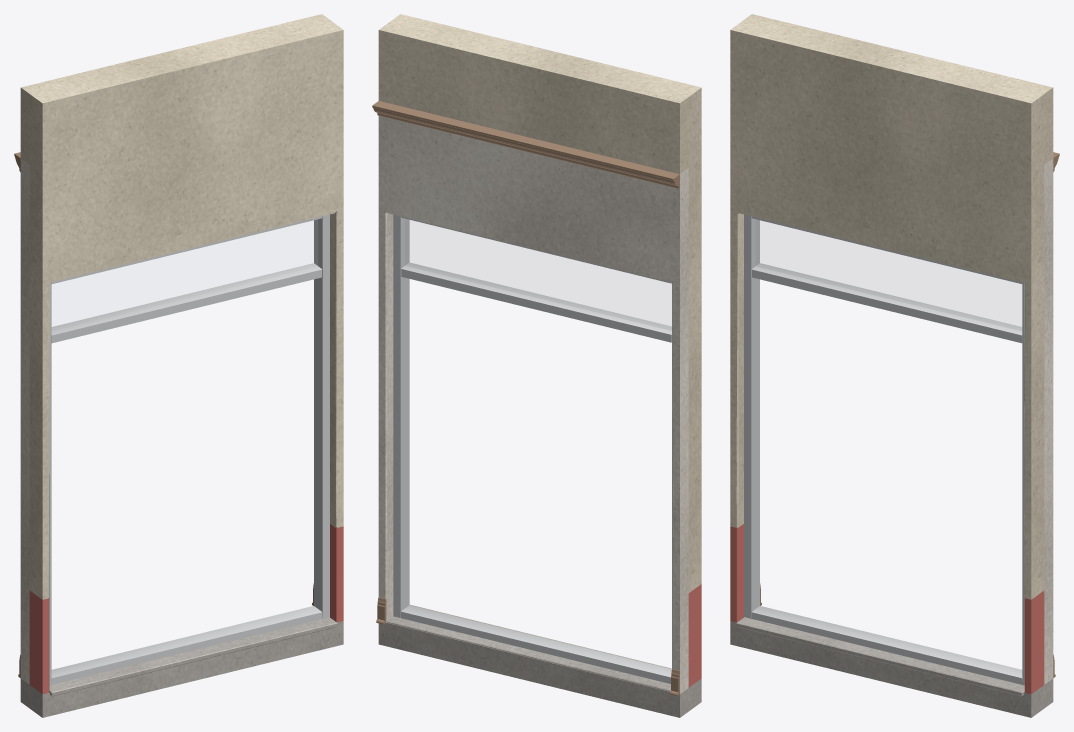
The model's file is w_door2.glb.
3 views of the same model, side by side, from view 1: azimuth 30°, elevation 25°; view 2: azimuth 150°, elevation 25°; view 3: azimuth 330°, elevation 25° (orthographic).
Visible parts, largest first — view 1: w_door2_render, w_door2_frame, w_door2_glass, w_door2_concrete, w_door2_plaster, w_door2_tile_r; view 2: w_door2_plaster, w_door2_render, w_door2_frame, w_door2_glass, w_door2_concrete, molduras, w_door2_tile_r; view 3: w_door2_render, w_door2_frame, w_door2_glass, w_door2_concrete, w_door2_plaster, w_door2_tile_r.
Part boxes in pixels (left/top/right/bottom): w_door2_render: left=20, top=14, right=343, bottom=599; w_door2_frame: left=49, top=214, right=329, bottom=685; w_door2_glass: left=52, top=220, right=317, bottom=330; w_door2_concrete: left=20, top=617, right=343, bottom=717; w_door2_plaster: left=20, top=158, right=29, bottom=684; w_door2_tile_r: left=29, top=524, right=343, bottom=694; w_door2_plaster: left=378, top=116, right=688, bottom=693; w_door2_render: left=378, top=14, right=701, bottom=592; w_door2_frame: left=393, top=214, right=673, bottom=683; w_door2_glass: left=405, top=219, right=671, bottom=329; w_door2_concrete: left=378, top=604, right=701, bottom=717; molduras: left=372, top=101, right=679, bottom=696; w_door2_tile_r: left=688, top=584, right=701, bottom=687; w_door2_render: left=730, top=14, right=1053, bottom=599; w_door2_frame: left=744, top=214, right=1024, bottom=685; w_door2_glass: left=756, top=220, right=1021, bottom=330; w_door2_concrete: left=730, top=617, right=1053, bottom=717; w_door2_plaster: left=1044, top=158, right=1053, bottom=684; w_door2_tile_r: left=730, top=524, right=1044, bottom=694.
Size of the model in its own units: 2 by 3.9 by 0.345.
7 materials, 3 textured.
